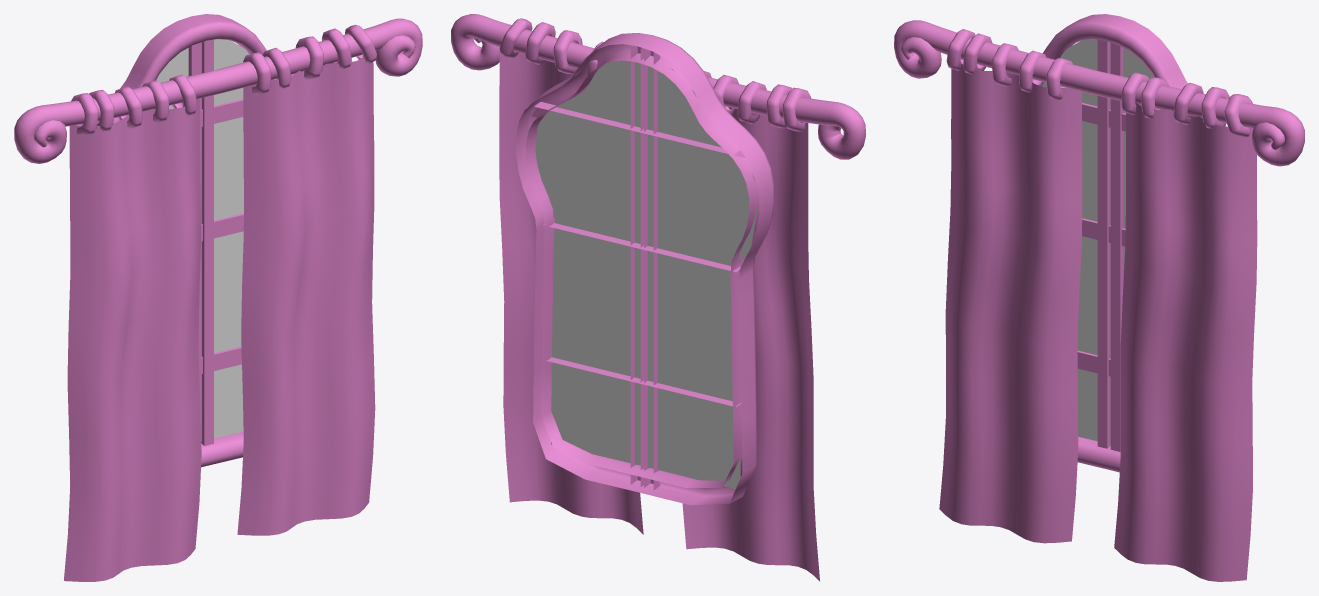
File: ENV_HAU_WINDOW_MODEL.fbx
3 views of the same model, side by side, from view 1: azimuth 30°, elevation 25°; view 2: azimuth 150°, elevation 25°; view 3: azimuth 330°, elevation 25° (orthographic).
Visible parts, largest first — view 1: ENV_HAU_WINDOW_MODEL; view 2: ENV_HAU_WINDOW_MODEL; view 3: ENV_HAU_WINDOW_MODEL.
Boxes of the visible parts, x1=… form: ENV_HAU_WINDOW_MODEL: x1=14, y1=14, x2=422, y2=581; ENV_HAU_WINDOW_MODEL: x1=451, y1=14, x2=865, y2=581; ENV_HAU_WINDOW_MODEL: x1=894, y1=14, x2=1304, y2=581.
Bounding box in the file's own units: 87.79 × 106 × 13.79.
